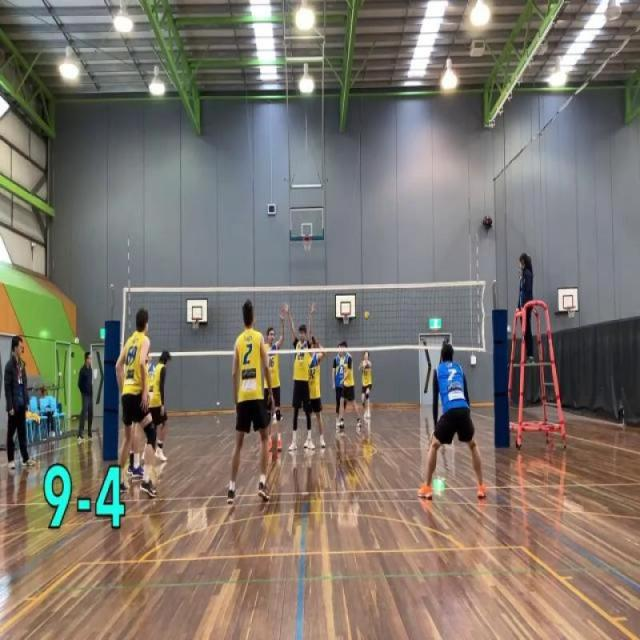volleyball: (363, 310, 370, 320)
